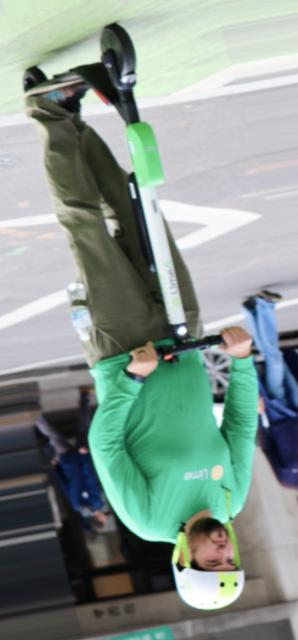scooter: (23, 23, 251, 367)
with helmet: (171, 517, 242, 610)
